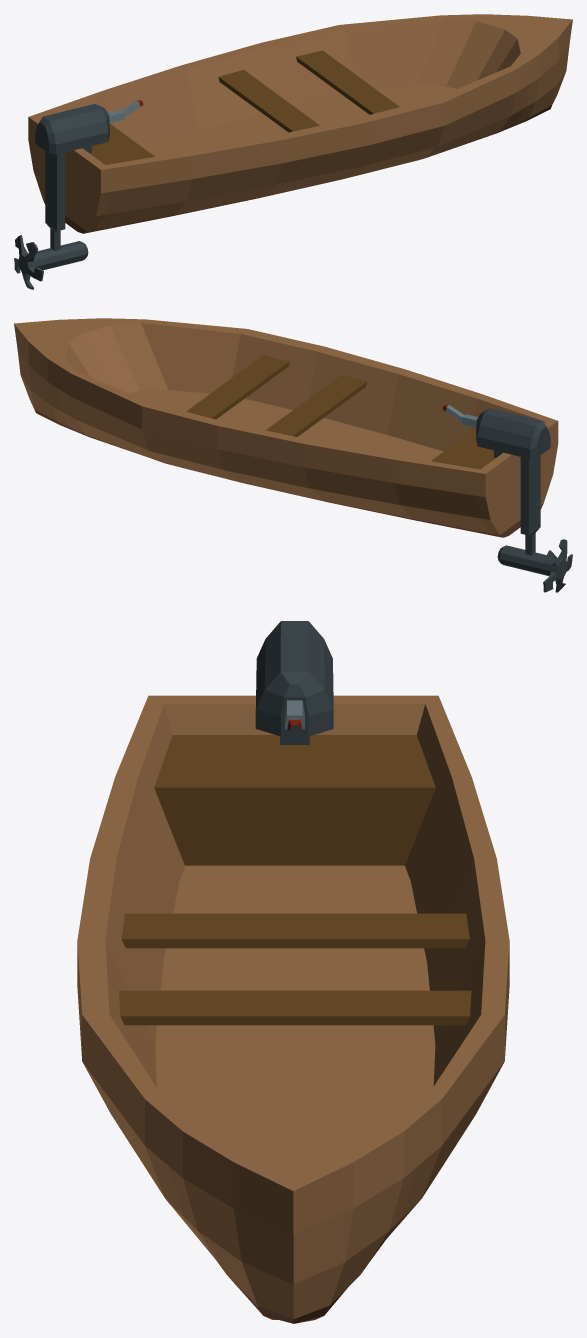
Rendered from Boat.glb.
3 views of the same model, one above another, from view 1: azimuth 30°, elevation 25°; view 2: azimuth 150°, elevation 25°; view 3: azimuth 270°, elevation 25° (orthographic). The views are drawn at different scales.
Parts seen in each view (by area): view 1: Wood_BoatV2; view 2: Wood_BoatV2; view 3: Wood_BoatV2.
Boxes of the visible parts, x1,y1,x2,y2 form: Wood_BoatV2: [14, 14, 572, 289]; Wood_BoatV2: [14, 318, 572, 592]; Wood_BoatV2: [77, 621, 509, 1323].
Size of the model in its own units: 4.36 by 1.24 by 1.49.
Materials: 1 (1 with a texture image).
